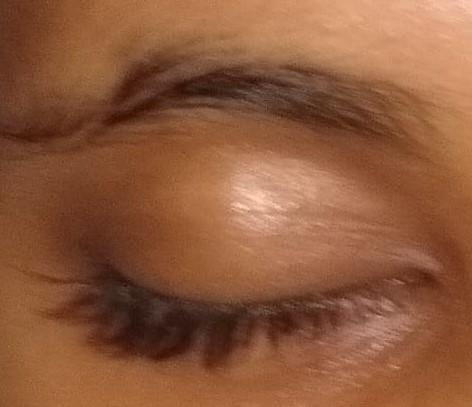close: (4, 155, 472, 400)
